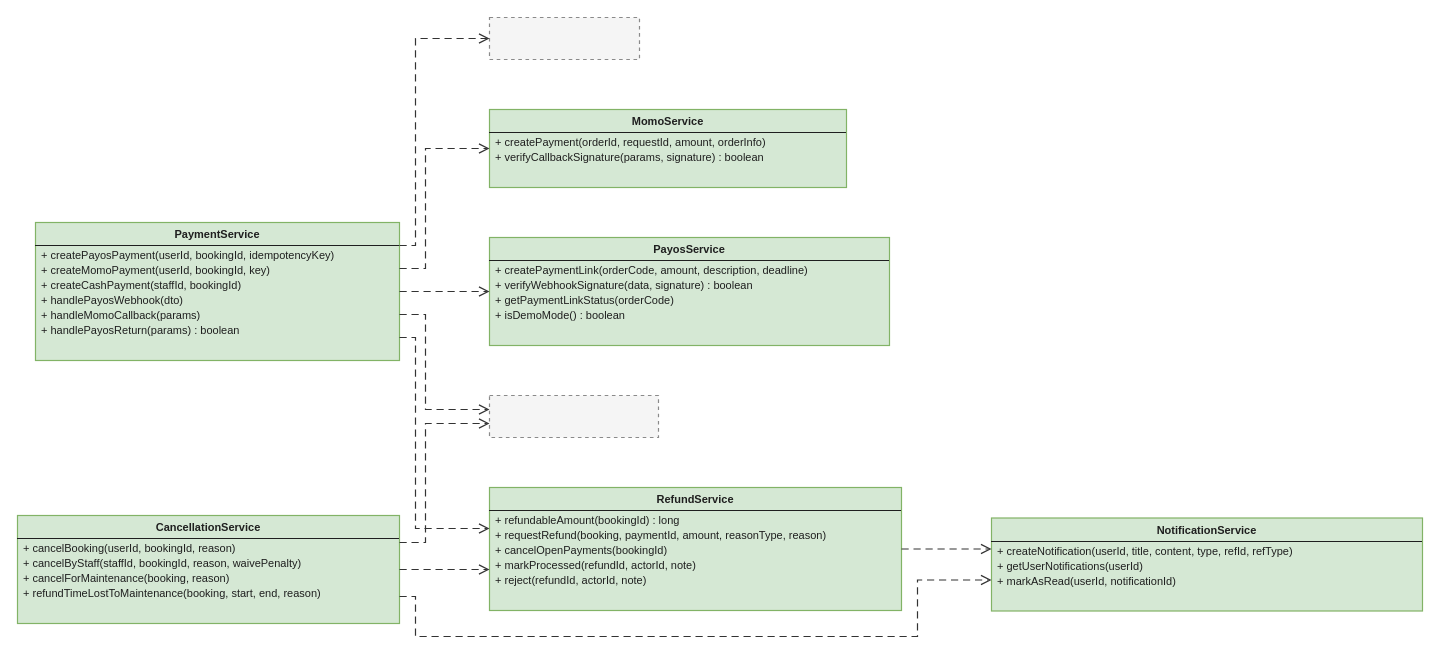
Image size: 1441x665. Some labels were removed from this diagram. Here are the shapes that lost their labels. From the top down, the centre of each, then its label:
point (564, 38): BookingService
point (573, 416): BookingAddonService
